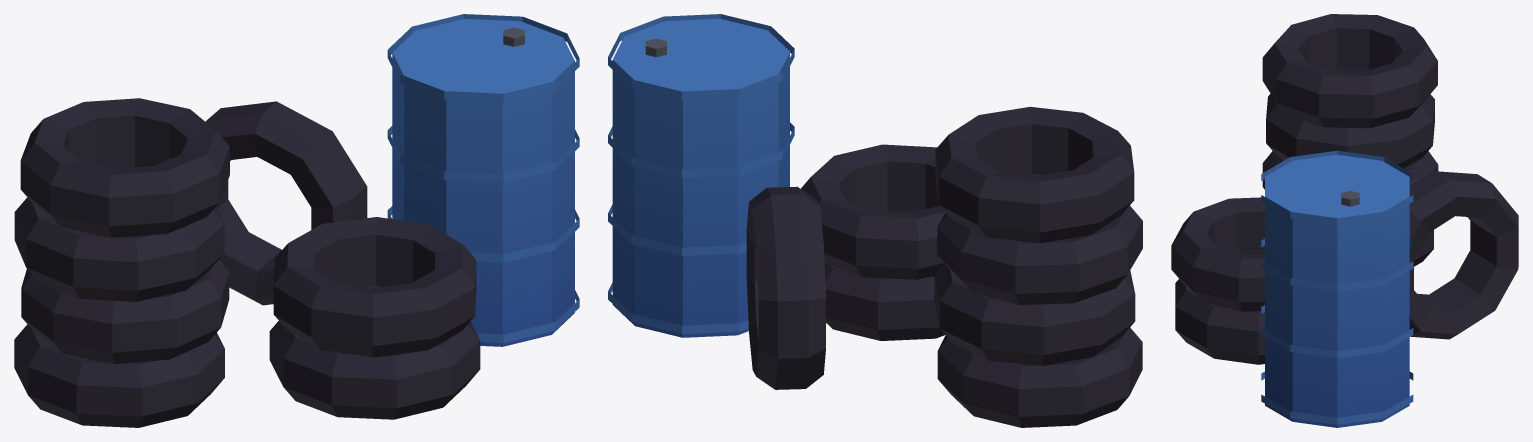
File: garage_tyres.glb
The picture shows the model from 3 angles, left to right: view 1: azimuth 30°, elevation 25°; view 2: azimuth 150°, elevation 25°; view 3: azimuth 270°, elevation 25°; orthographic projection. The views are drawn at different scales.
Visible parts, largest first — view 1: garage_tyres; view 2: garage_tyres; view 3: garage_tyres.
Boxes of the visible parts, <box> form: garage_tyres: <box>14,14,579,427</box>; garage_tyres: <box>608,14,1142,427</box>; garage_tyres: <box>1171,14,1518,427</box>.
Size of the model in its own units: 1.94 by 0.91 by 1.33.
